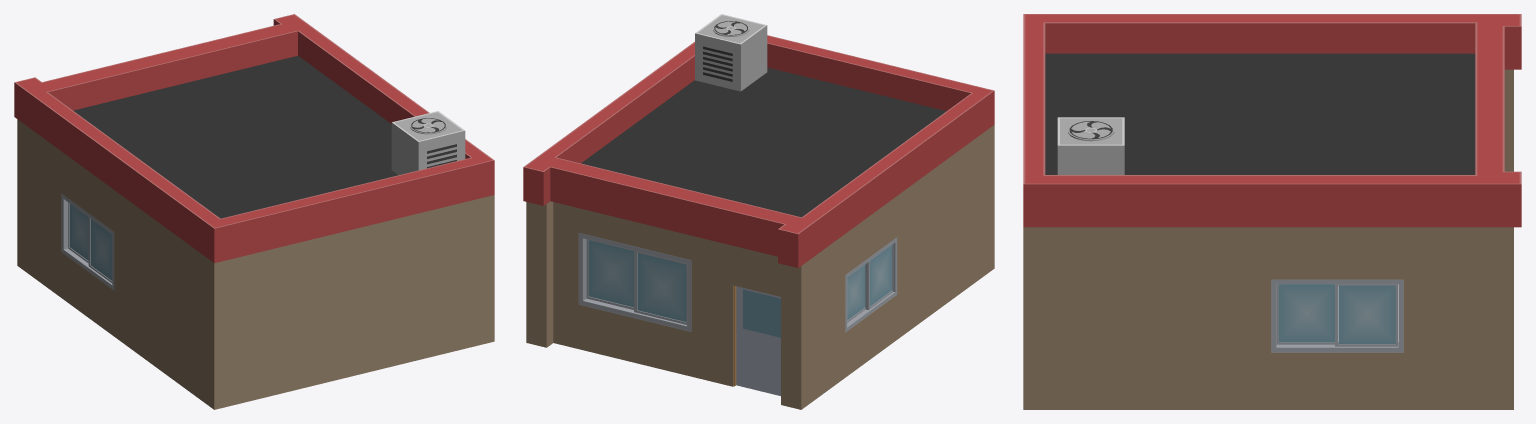
The model's file is Casa_2-Cafe.FBX.
3 renders of one model, left to right at view 1: azimuth 30°, elevation 25°; view 2: azimuth 150°, elevation 25°; view 3: azimuth 270°, elevation 25°, orthographic. The views are drawn at different scales.
Parts seen in each view (by area): view 1: Casa, Box001, Ventana; view 2: Casa, Ventana, Box001, Door-2; view 3: Casa, Ventana, Box001.
Part boxes in pixels (x1=…): Casa: x1=14, y1=14, x2=494, y2=409; Box001: x1=391, y1=111, x2=465, y2=175; Ventana: x1=61, y1=193, x2=114, y2=290; Casa: x1=523, y1=35, x2=994, y2=409; Ventana: x1=578, y1=233, x2=897, y2=332; Box001: x1=695, y1=14, x2=767, y2=91; Door-2: x1=736, y1=286, x2=780, y2=395; Casa: x1=1023, y1=14, x2=1521, y2=409; Ventana: x1=1271, y1=279, x2=1403, y2=352; Box001: x1=1057, y1=117, x2=1124, y2=174.
Bounding box in the file's own units: 602 × 742 × 421.
